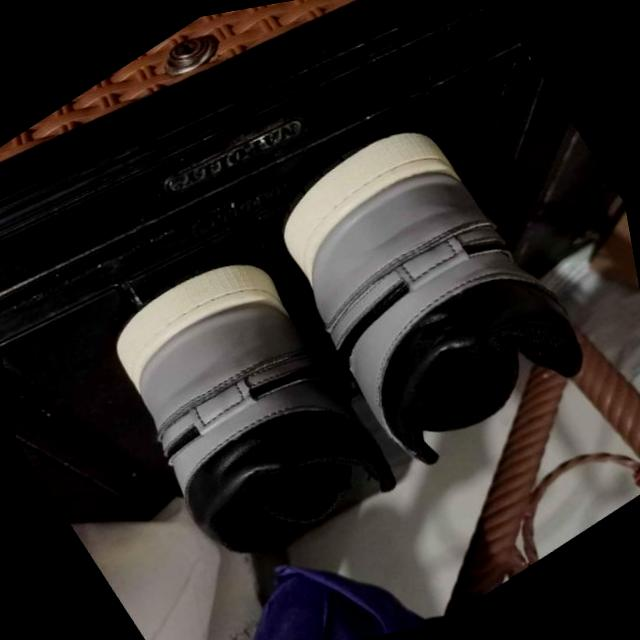nike_fake_jordan: (224, 78, 609, 501), (60, 208, 435, 616)
